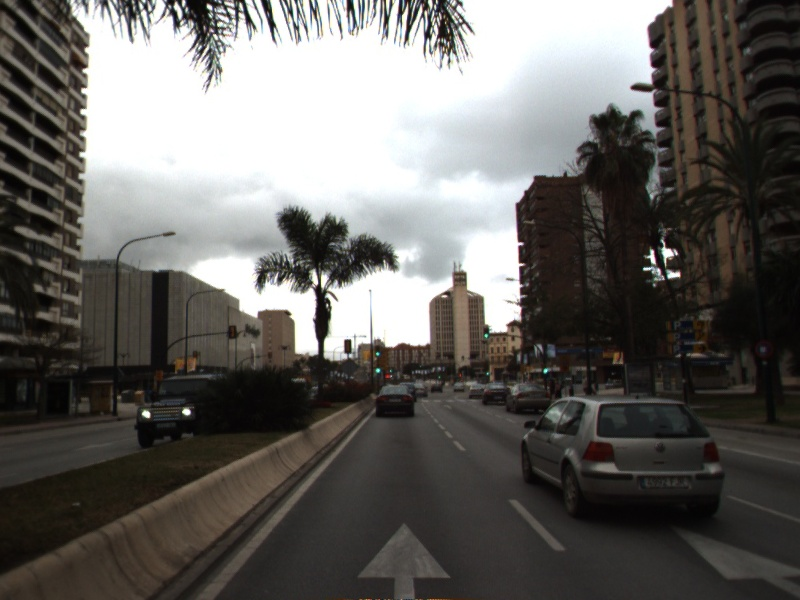STRAIGHT: (663, 518, 800, 600), (352, 519, 458, 600)
